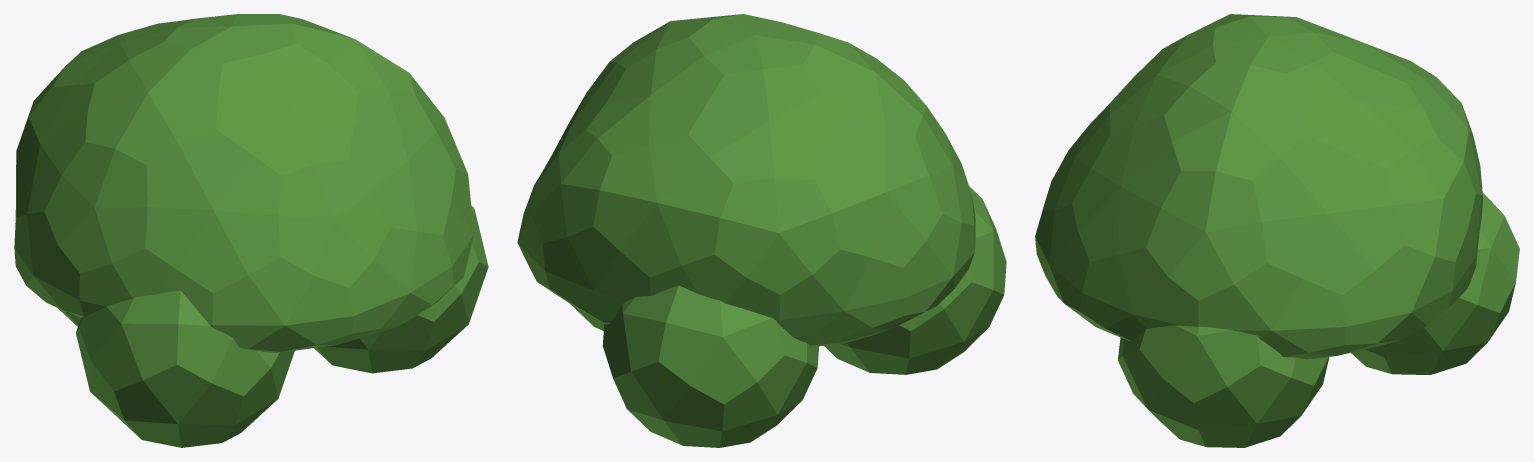
Rendered from tree_variant_C_v001.glb.
The picture shows the model from 3 angles, left to right: view 1: azimuth 30°, elevation 25°; view 2: azimuth 150°, elevation 25°; view 3: azimuth 270°, elevation 25°; orthographic projection. The views are drawn at different scales.
Visible parts, largest first — view 1: Canopy_Tree_Trunk_C_main; view 2: Canopy_Tree_Trunk_C_main; view 3: Canopy_Tree_Trunk_C_main.
Part boxes in pixels (x1,y1,x2,y2): Canopy_Tree_Trunk_C_main: [14, 14, 488, 447]; Canopy_Tree_Trunk_C_main: [517, 14, 1006, 447]; Canopy_Tree_Trunk_C_main: [1035, 14, 1519, 447].
Size of the model in its own units: 5.45 by 4.66 by 5.56.
